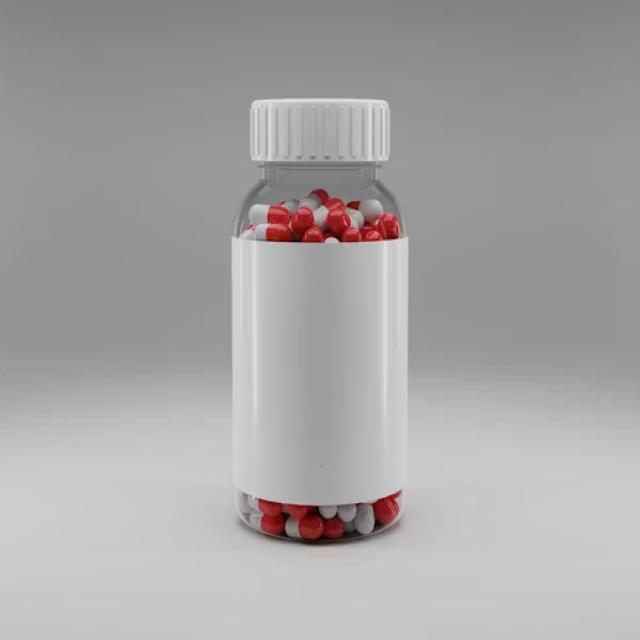Bottle: (233, 99, 408, 540)
